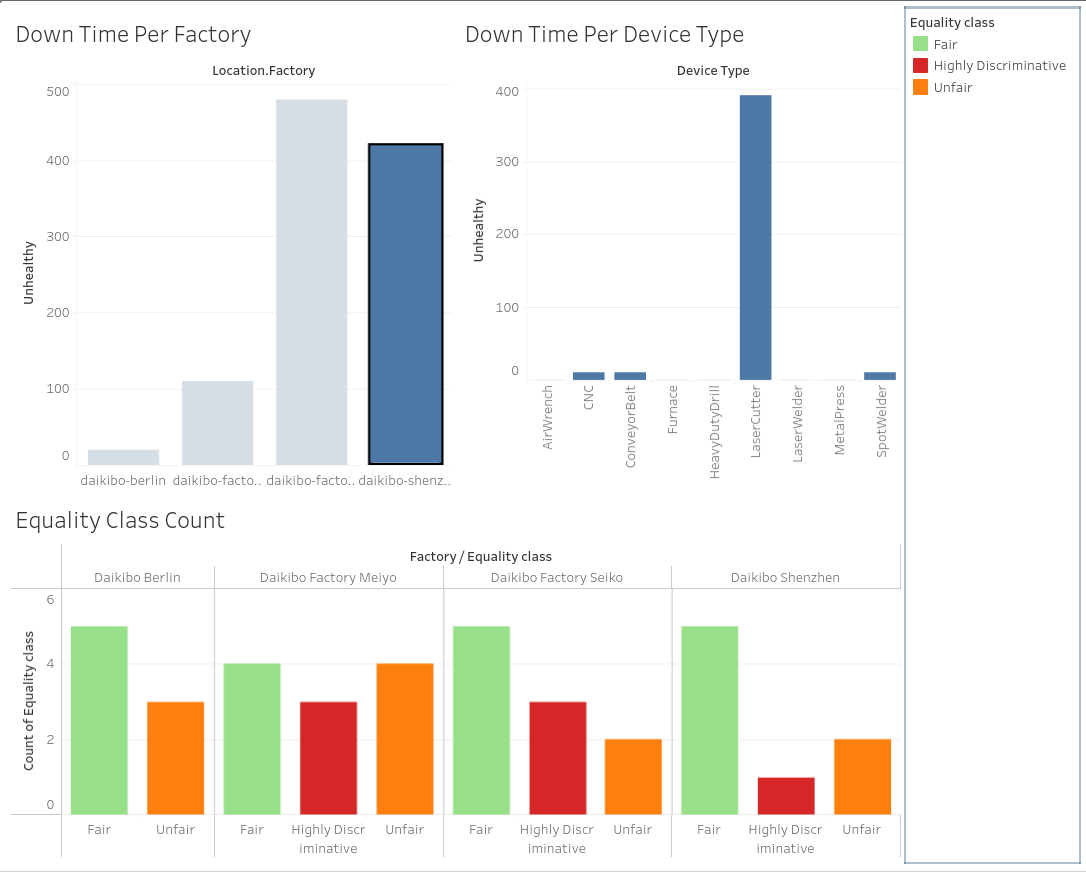

Layout of this report page (visuals, bound fields, positions):
{"tool":"tableau","page":{"name":"Dashboard 1","canvas":[1000,1000],"units":"permille","ordinal":0},"visuals":[{"type":"worksheet","title":"Down Time Per Factory","mark":"Automatic","rows":["Calculation_0013951188594806"],"cols":["location.factory"],"box":[5.7,10.7,458.5,489.3]},{"type":"worksheet","title":"Down Time Per Device Type","mark":"Automatic","rows":["Calculation_0013951188594806"],"cols":["deviceType"],"box":[464.2,10.7,454.2,489.3]},{"type":"legend","title":"Equality Class Count","param":"[federated.06xc8bg1vp3p6y17jqbft0ffjy0w].[none:Equality class:nk]","box":[918.4,10.7,75.9,77.7]},{"type":"worksheet","title":"Equality Class Count","mark":"Automatic","rows":["Equality class"],"cols":["Factory","Equality class"],"box":[5.7,500,912.8,489.3]}]}

Visuals, with their boxes on the dashboard's canvas, which has no fixed pixel size, in thousandths of its width and height (x1, y1, x2, y2). These are canvas units, not pixel positions in the 1086x872 screenshot, which may show the page scaled, cropped or inside an application window:
"Down Time Per Factory" worksheet: x1=6 y1=11 x2=464 y2=500
"Down Time Per Device Type" worksheet: x1=464 y1=11 x2=918 y2=500
"Equality Class Count" legend: x1=918 y1=11 x2=994 y2=88
"Equality Class Count" worksheet: x1=6 y1=500 x2=918 y2=989
